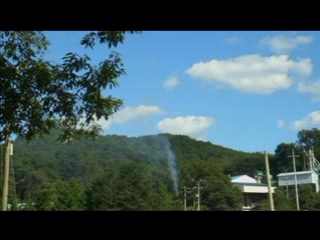smoke: (149, 131, 183, 199)
